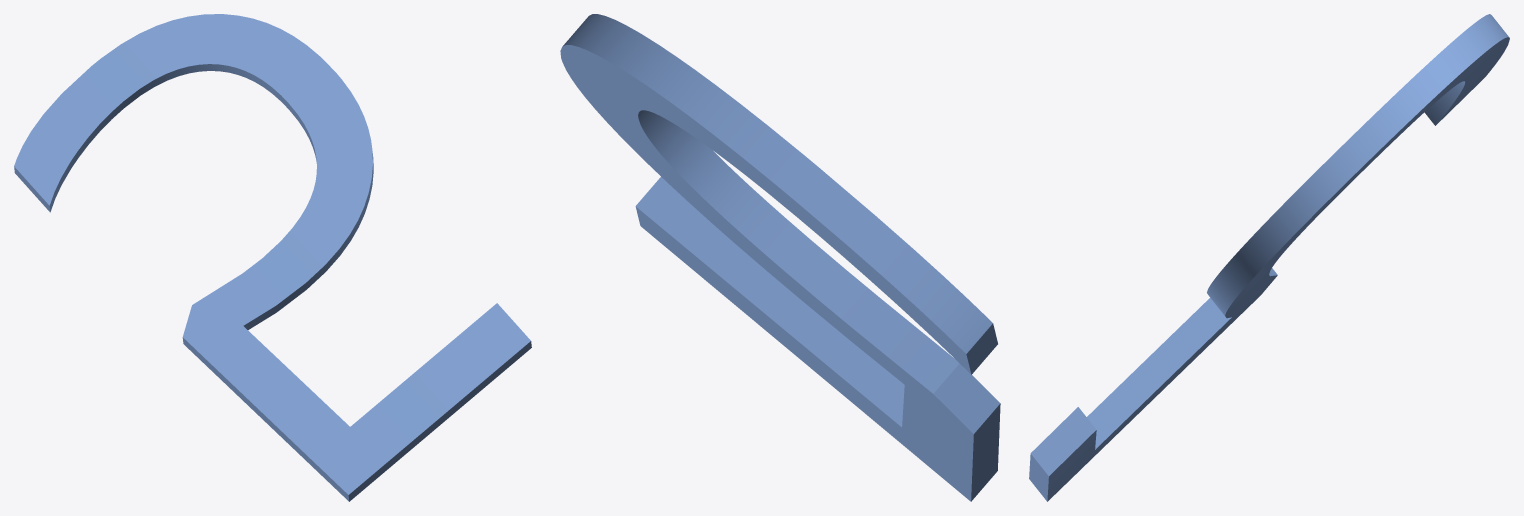
File: New_Number_5.gltf
3 renders of one model, left to right at view 1: azimuth 30°, elevation 25°; view 2: azimuth 150°, elevation 25°; view 3: azimuth 270°, elevation 25°, orthographic. The views are drawn at different scales.
Parts seen in each view (by area): view 1: Part 401; view 2: Part 401; view 3: Part 401.
Boxes of the visible parts, bbox=[...] form: Part 401: bbox=[14, 14, 531, 501]; Part 401: bbox=[560, 14, 1000, 501]; Part 401: bbox=[1029, 14, 1509, 501].
Size of the model in its own units: 0.00462 by 0.00455 by 0.00415.
